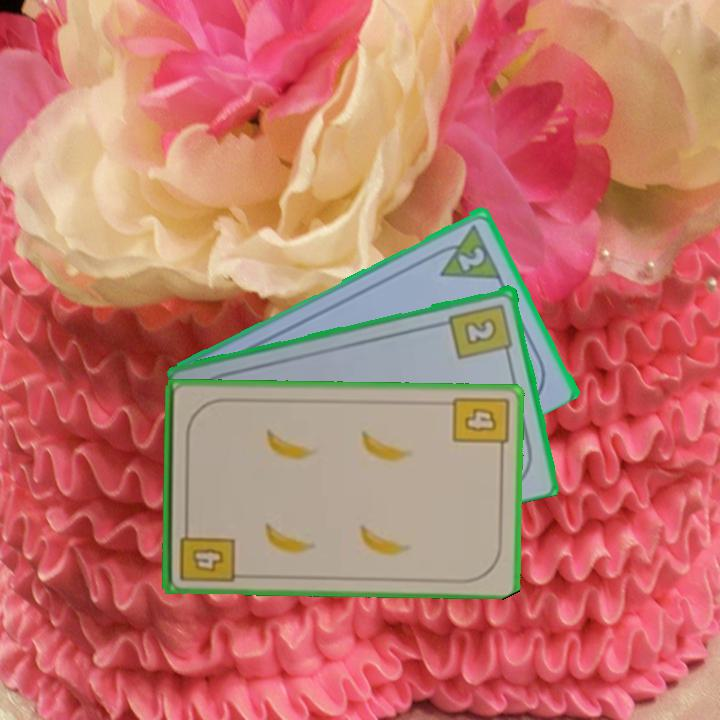2b: (446, 300, 516, 362)
2p: (428, 219, 503, 282)
4b: (175, 519, 237, 585), (449, 392, 511, 457)
